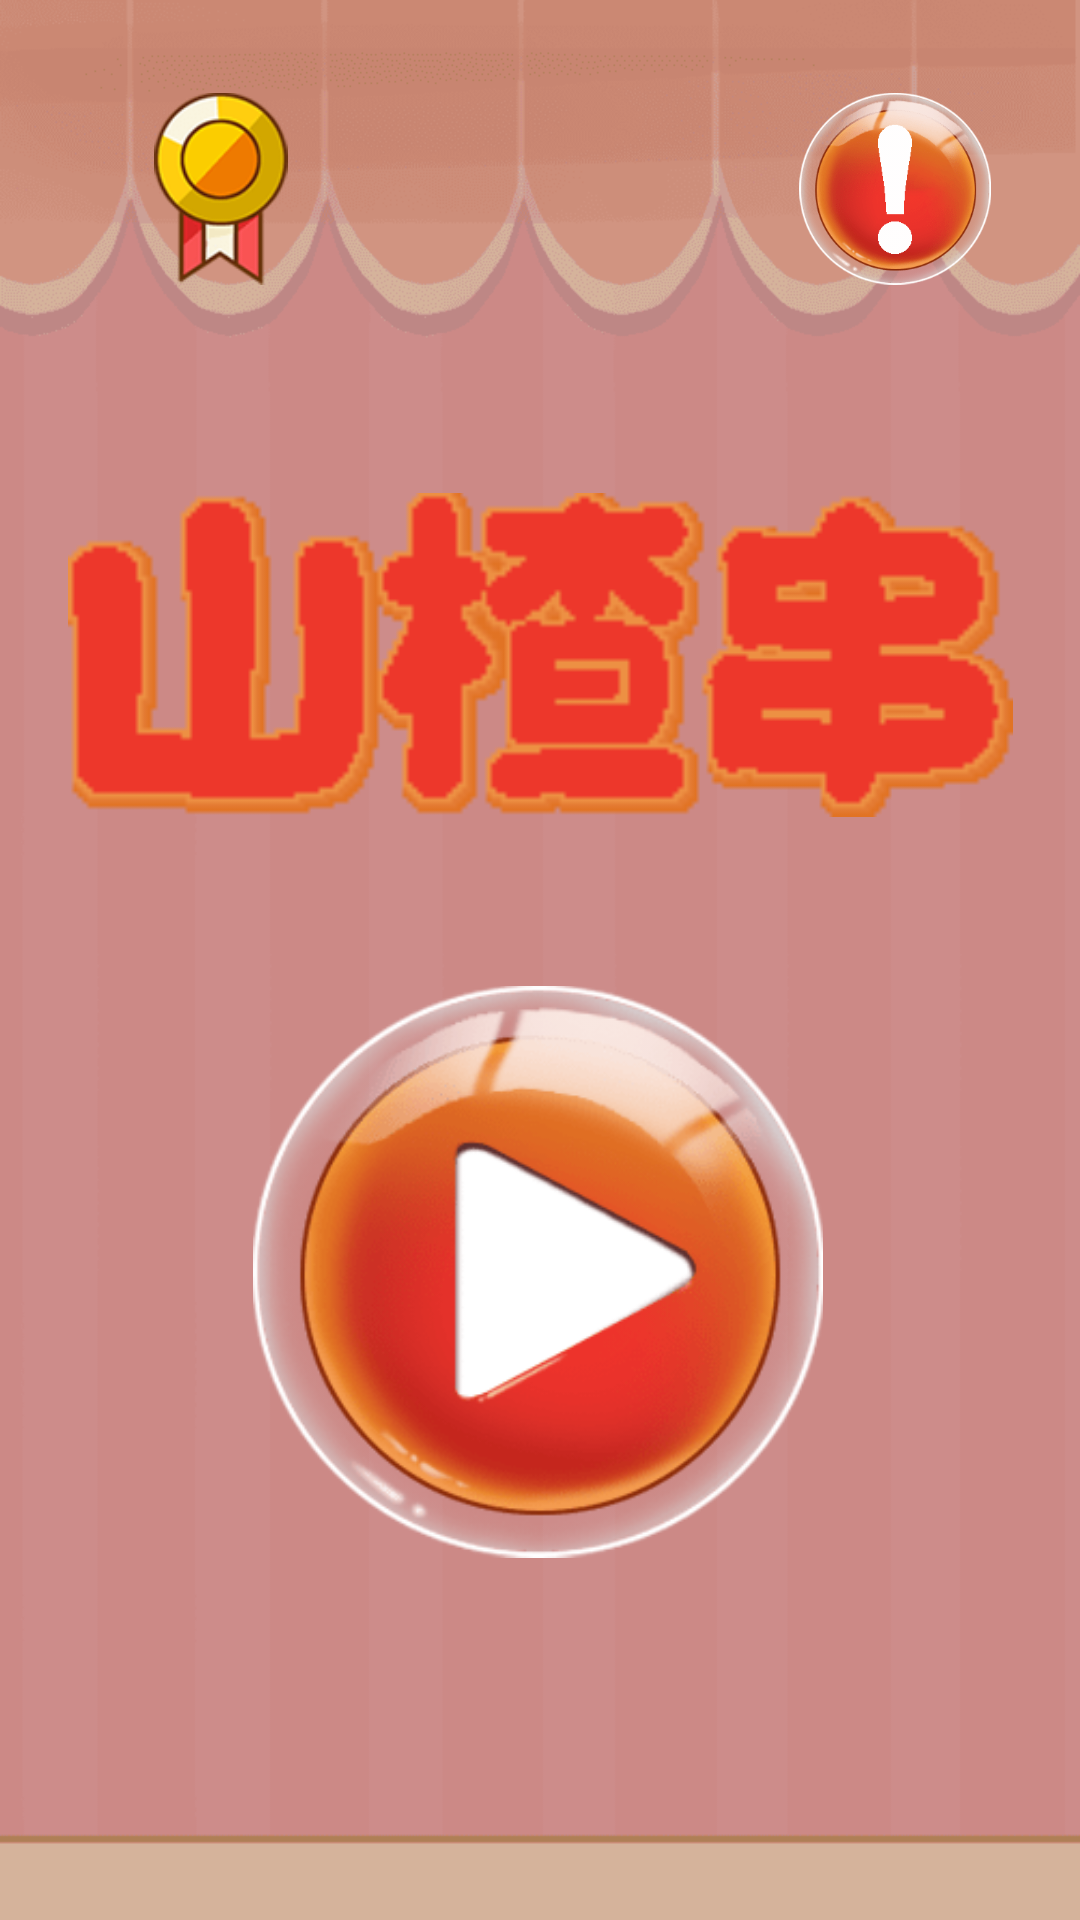

Where to tap for icons on this 1080px×1920px app screen, as (x=x, y=y):
about: (x=895, y=189)
rank: (x=221, y=189)
